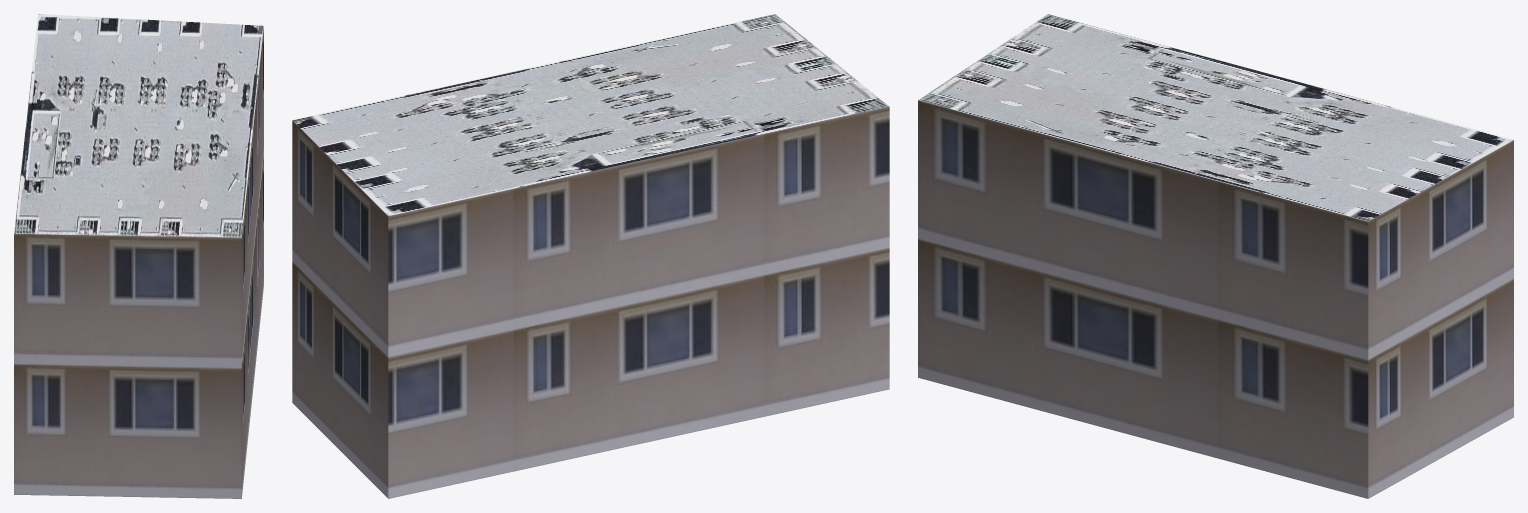
File: ResTex__558.fbx
3 views of the same model, side by side, from view 1: azimuth 30°, elevation 25°; view 2: azimuth 150°, elevation 25°; view 3: azimuth 270°, elevation 25° (orthographic). The views are drawn at different scales.
Parts seen in each view (by area): view 1: CityEngineMaterial_21_m, CityEngineMaterial_8_m; view 2: CityEngineMaterial_21_m, CityEngineMaterial_8_m; view 3: CityEngineMaterial_21_m, CityEngineMaterial_8_m.
Part boxes in pixels (left/top/right/bottom): CityEngineMaterial_21_m: left=14, top=26, right=263, bottom=498; CityEngineMaterial_8_m: left=14, top=14, right=263, bottom=237; CityEngineMaterial_21_m: left=292, top=106, right=889, bottom=498; CityEngineMaterial_8_m: left=292, top=14, right=888, bottom=215; CityEngineMaterial_21_m: left=918, top=100, right=1513, bottom=498; CityEngineMaterial_8_m: left=918, top=14, right=1513, bottom=221.
Size of the model in its own units: 9.63 by 6 by 11.68.
Materials: 2 (2 with a texture image).
